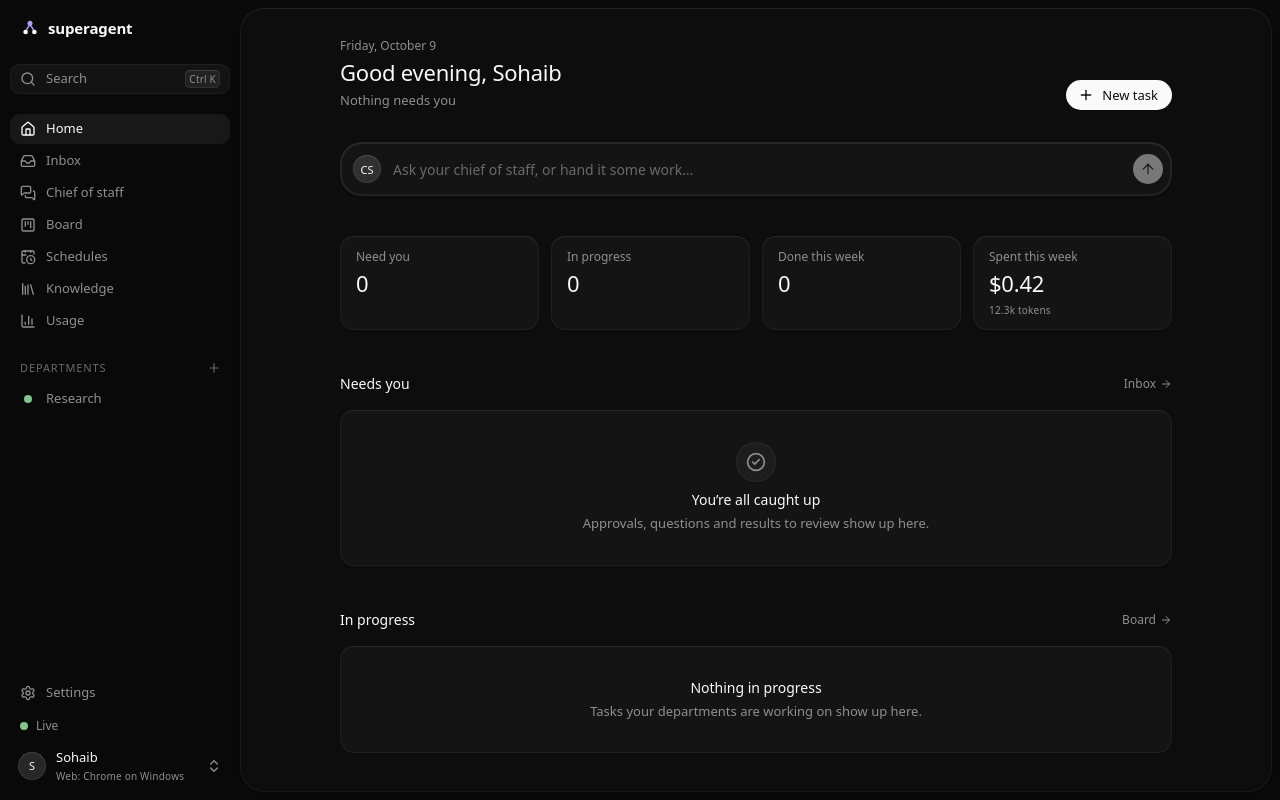
Test: notifications › say so, and stay off, where the browser can’t show them from a page
Click the button with aria-label "Account and theme" at (120, 766), box x1=10 y1=744 x2=230 y2=788
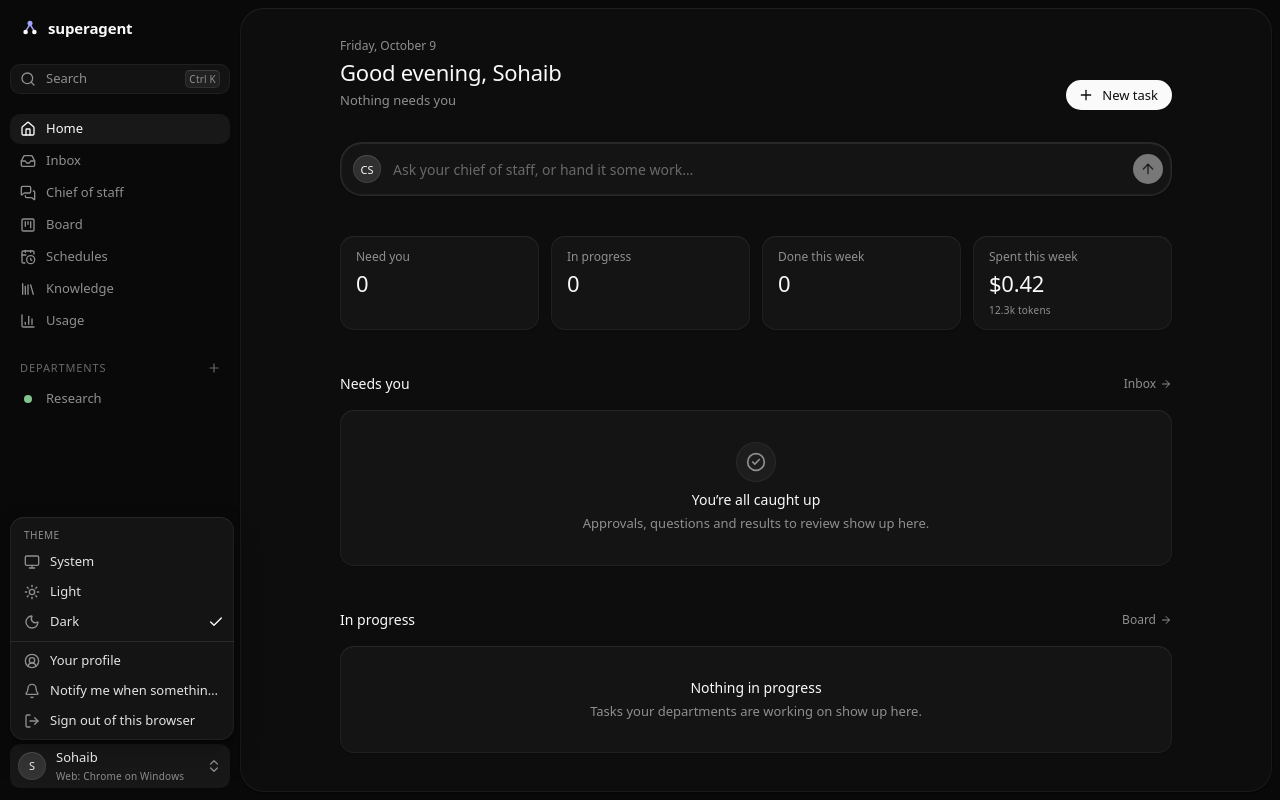
Click the menu item "Notify me when something needs me" at (122, 691), box x1=14 y1=676 x2=230 y2=706
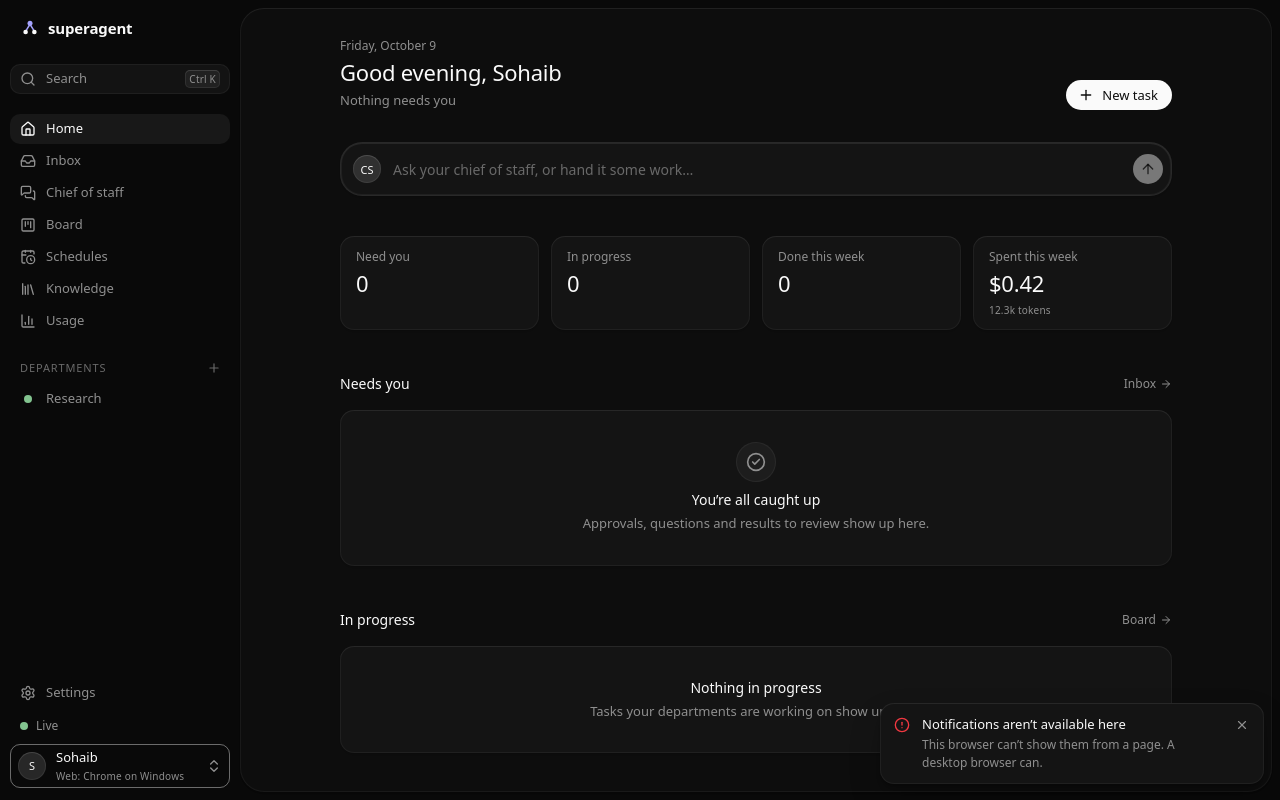
Expected: the heading "Good evening, Sohaib" is shown, x1=340 y1=59 x2=562 y2=87
Now the heading "Notifications aren’t available here" is shown, box x1=922 y1=714 x2=1126 y2=732
